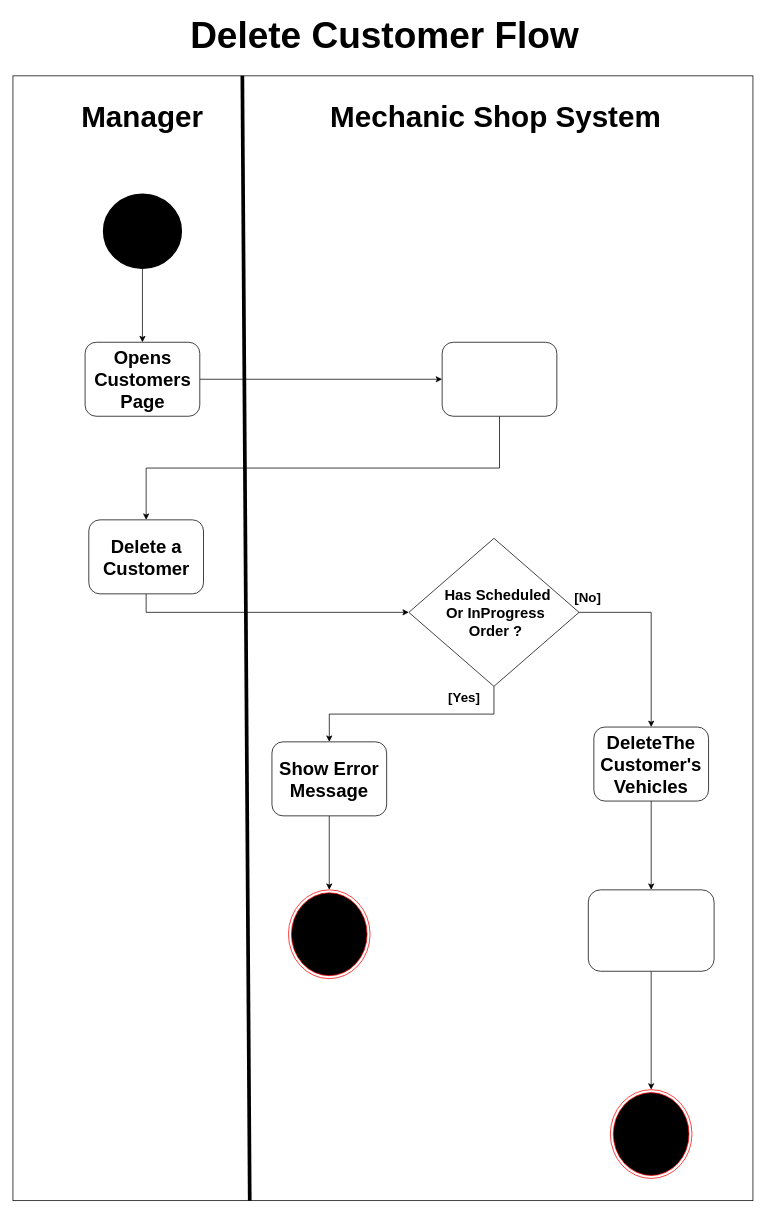
This 766x1216 diagram has some shape labels left out. The shapes that lost their labels are listed below. From the top down, each one's centre as x and y in pixels, then its label:
(x=499, y=379): View Customers
(x=651, y=930): Update The Customer
